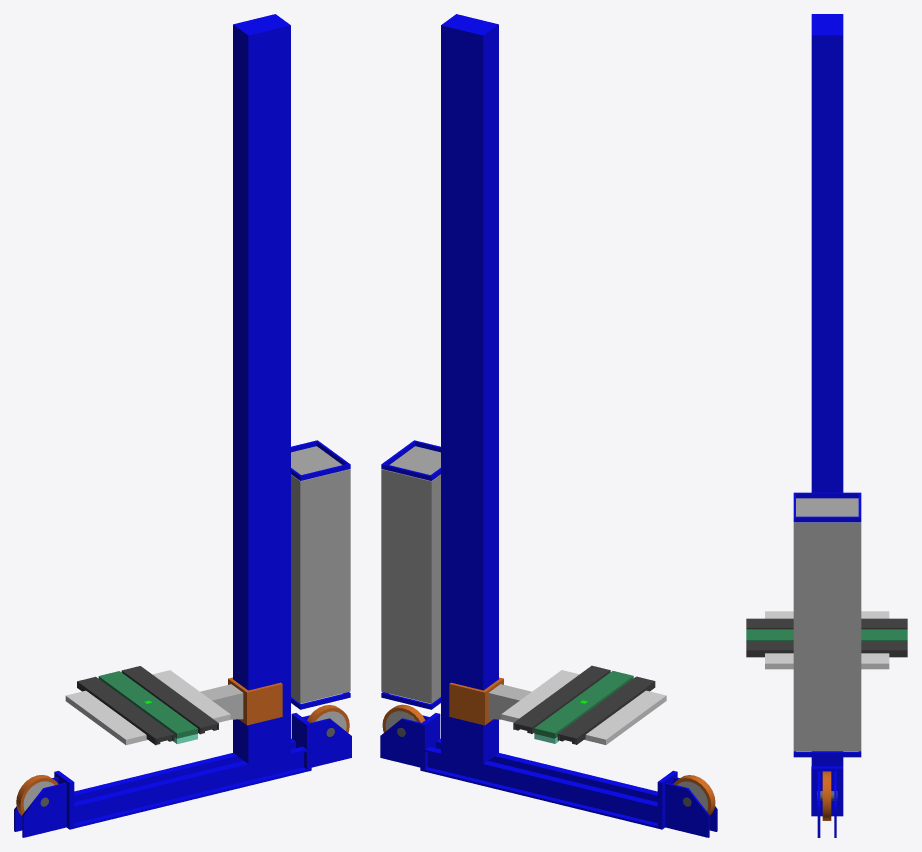
The model's file is dui.obj.
3 views of the same model, side by side, from view 1: azimuth 30°, elevation 25°; view 2: azimuth 150°, elevation 25°; view 3: azimuth 270°, elevation 25° (orthographic). The views are drawn at different scales.
Parts seen in each view (by area): view 1: Box6, Box4, Container1, Left2, LiftVisual, Plate2, Box9, Container2, Container6, Cylinder5, Box7, Box10 (+3 smaller); view 2: Box6, Box4, Container2, Left2, LiftVisual, Plate2, Box9, Container1, Container6, Cylinder5, Box7, Box10 (+3 smaller); view 3: Box4, Box6, Left2, LiftVisual, Plate2, Box7, Container3, Cylinder7, Container4.
Part boxes in pixels (x1=…): Box6: x1=233, y1=14, x2=290, y2=764; Box4: x1=291, y1=446, x2=350, y2=703; Container1: x1=74, y1=746, x2=306, y2=828; Left2: x1=77, y1=666, x2=218, y2=745; LiftVisual: x1=65, y1=670, x2=230, y2=745; Plate2: x1=98, y1=671, x2=197, y2=738; Box9: x1=43, y1=715, x2=330, y2=832; Container2: x1=74, y1=738, x2=295, y2=802; Container6: x1=228, y1=677, x2=282, y2=725; Cylinder5: x1=14, y1=684, x2=351, y2=815; Box7: x1=54, y1=713, x2=311, y2=829; Box10: x1=14, y1=736, x2=351, y2=837; Box6: x1=441, y1=14, x2=498, y2=763; Box4: x1=381, y1=446, x2=440, y2=703; Container2: x1=425, y1=746, x2=657, y2=828; Left2: x1=513, y1=665, x2=655, y2=744; LiftVisual: x1=501, y1=670, x2=666, y2=744; Plate2: x1=534, y1=671, x2=633, y2=738; Box9: x1=401, y1=715, x2=688, y2=832; Container1: x1=436, y1=738, x2=657, y2=802; Container6: x1=449, y1=677, x2=503, y2=725; Cylinder5: x1=380, y1=684, x2=717, y2=815; Box7: x1=420, y1=713, x2=677, y2=829; Box10: x1=380, y1=736, x2=717, y2=837; Box4: x1=793, y1=498, x2=861, y2=751; Box6: x1=811, y1=14, x2=843, y2=766; Left2: x1=746, y1=618, x2=907, y2=657; LiftVisual: x1=765, y1=611, x2=889, y2=669; Plate2: x1=746, y1=629, x2=907, y2=640; Box7: x1=811, y1=766, x2=843, y2=816; Container3: x1=793, y1=492, x2=861, y2=522; Cylinder7: x1=822, y1=771, x2=831, y2=820; Container4: x1=793, y1=751, x2=861, y2=757.
Bounding box in the file's own units: 3.14 × 6.85 × 1.3.
